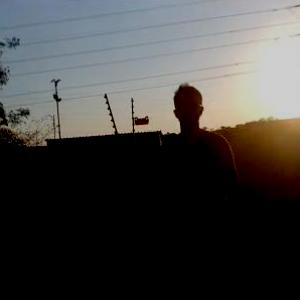follow: (162, 69, 252, 299)
